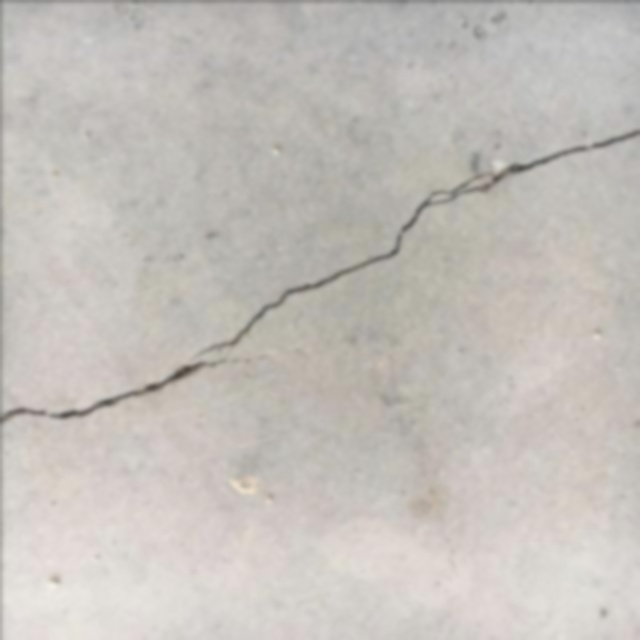SurfaceCrack: (1, 64, 640, 480)
